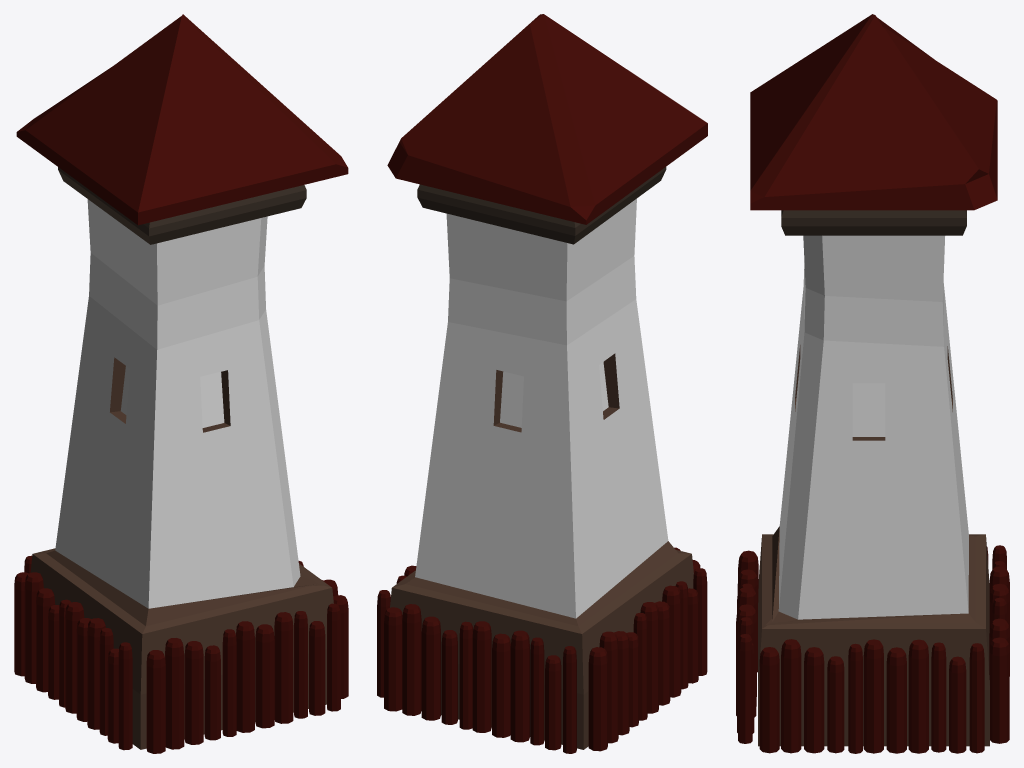
The model's file is Tower_Def_5_Gray.fbx.
3 views of the same model, side by side, from view 1: azimuth 30°, elevation 25°; view 2: azimuth 150°, elevation 25°; view 3: azimuth 270°, elevation 25° (orthographic).
Visible parts, largest first — view 1: Cube.040, Cylinder.010, Cylinder.009, Cylinder.012; view 2: Cube.040, Cylinder.011, Cylinder.009, Cylinder.012; view 3: Cube.040, Cylinder.012, Cylinder.010, Cylinder.011.
Boxes of the visible parts, left/top/right/bottom form: Cube.040: left=16, top=14, right=348, bottom=749; Cylinder.010: left=146, top=603, right=340, bottom=753; Cylinder.009: left=14, top=572, right=132, bottom=750; Cylinder.012: left=298, top=561, right=348, bottom=698; Cube.040: left=387, top=14, right=707, bottom=749; Cylinder.011: left=384, top=604, right=576, bottom=753; Cylinder.009: left=588, top=568, right=707, bottom=751; Cylinder.012: left=377, top=565, right=416, bottom=697; Cube.040: left=750, top=14, right=997, bottom=746; Cylinder.012: left=759, top=639, right=984, bottom=753; Cylinder.010: left=736, top=550, right=758, bottom=743; Cylinder.011: left=989, top=545, right=1009, bottom=743.
Size of the model in its own units: 184 by 510 by 185.
